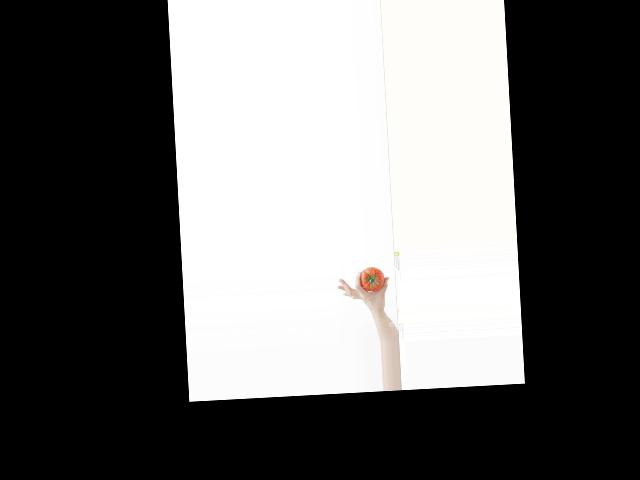tomato: (359, 266, 385, 292)
